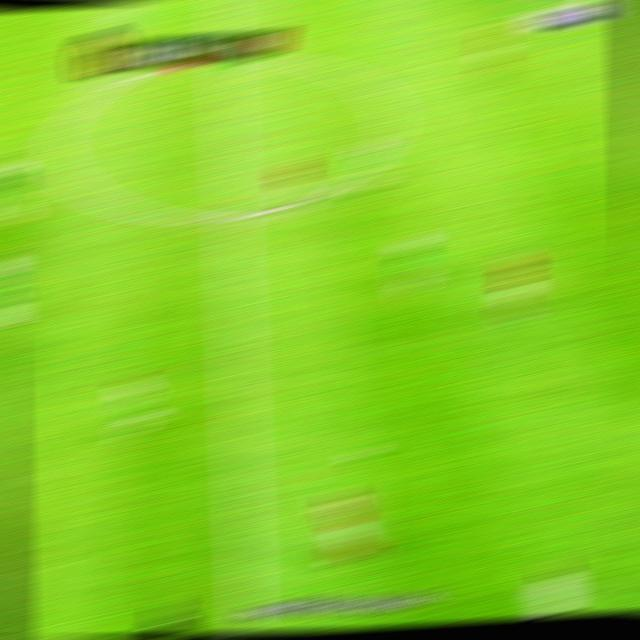halfcircle_bottom: (210, 199, 251, 234)
